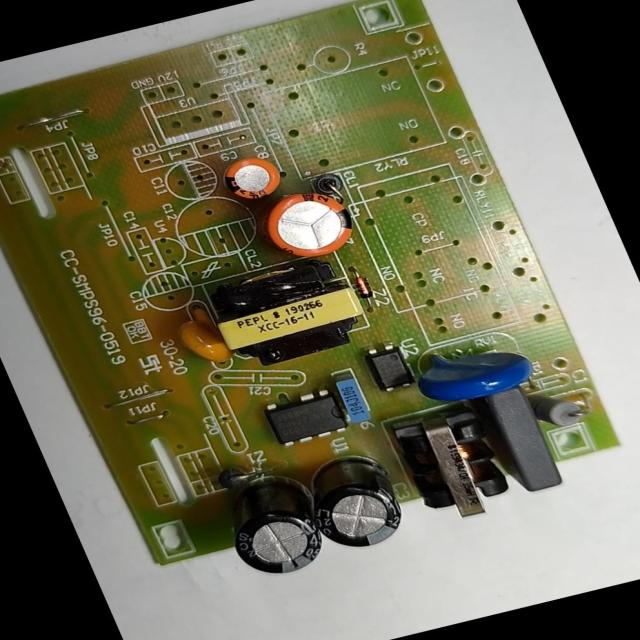Cap1: (248, 178, 368, 269)
Cap2: (215, 150, 290, 207)
Cap3: (291, 446, 419, 556)
Cap4: (208, 469, 334, 583)
MOSFET: (255, 383, 353, 451)
Mov: (405, 329, 542, 410)
Resistor: (524, 381, 593, 433)
Transformer: (201, 257, 378, 376), (386, 406, 524, 530)
